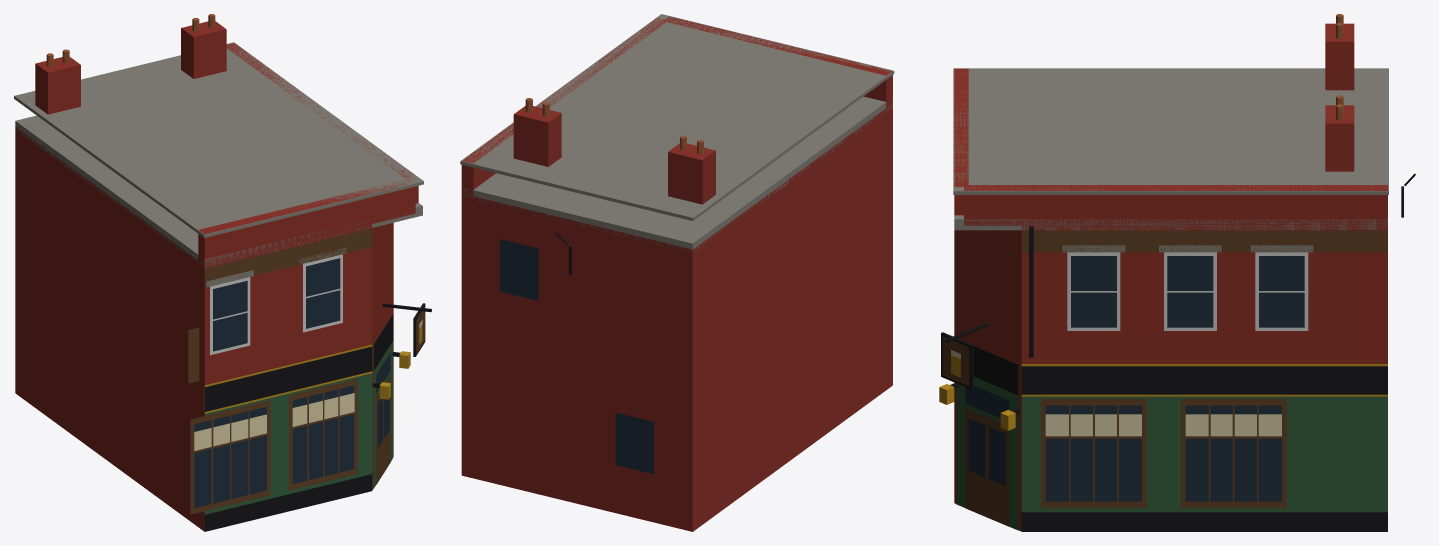
Rendered from bld_corner-pub.d119ddfdf60a.glb.
3 renders of one model, left to right at view 1: azimuth 30°, elevation 25°; view 2: azimuth 150°, elevation 25°; view 3: azimuth 270°, elevation 25°, orthographic. The views are drawn at different scales.
Visible parts, largest first — view 1: body; view 2: body; view 3: body.
Part boxes in pixels (x1,y1,x2,y2): body: (14, 14, 431, 531); body: (460, 14, 894, 531); body: (939, 14, 1415, 531).
Bounding box in the file's own units: 6.76 × 9.2 × 10.07.
